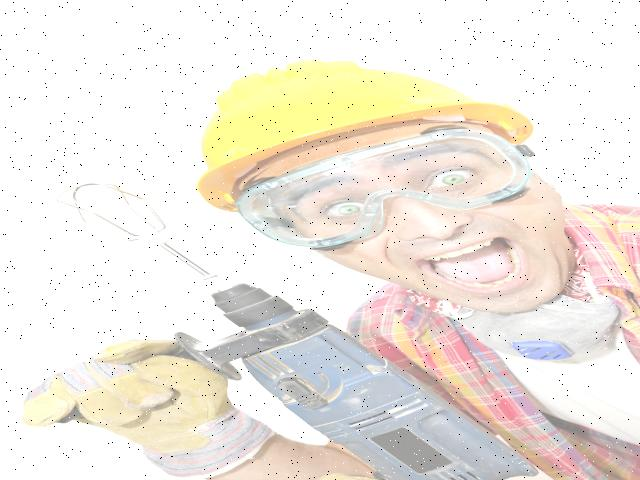Helmet: (182, 55, 547, 218)
